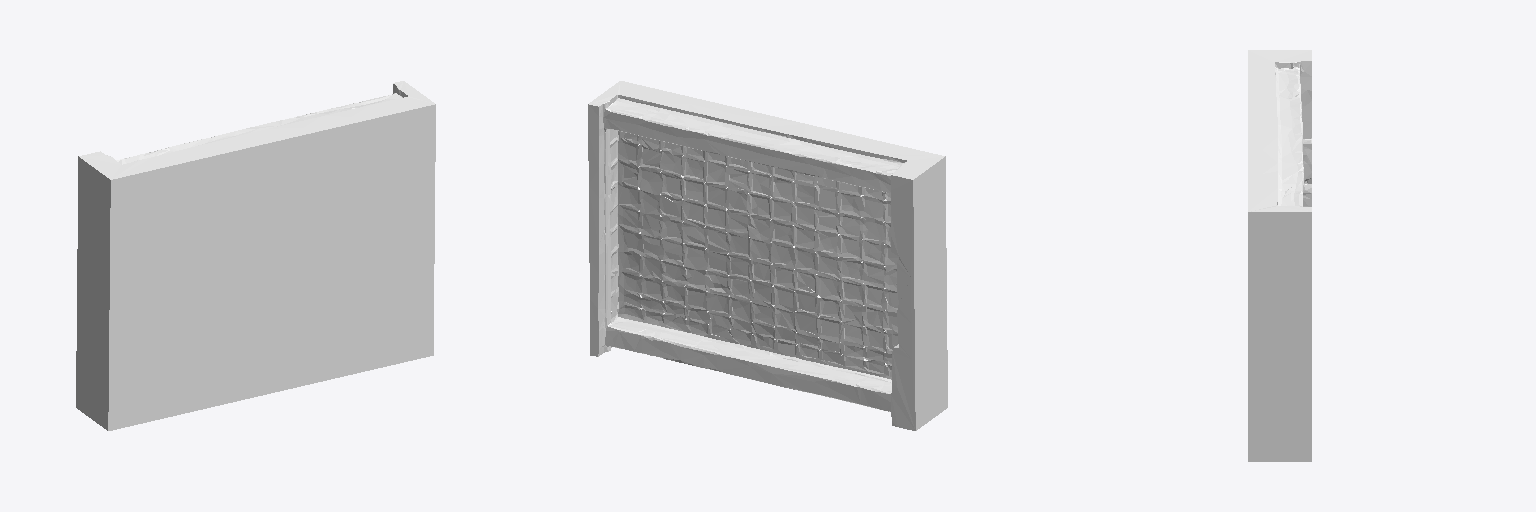
Rendered from Ceiling_25K.obj.
3 renders of one model, left to right at view 1: azimuth 30°, elevation 25°; view 2: azimuth 150°, elevation 25°; view 3: azimuth 270°, elevation 25°, orthographic.
Visible parts, largest first — view 1: default; view 2: default; view 3: default.
Part boxes in pixels (left/top/right/bottom): default: left=76, top=81, right=435, bottom=430; default: left=588, top=81, right=947, bottom=430; default: left=1248, top=50, right=1311, bottom=461.
Size of the model in its own units: 2.57 by 1.91 by 0.4403.